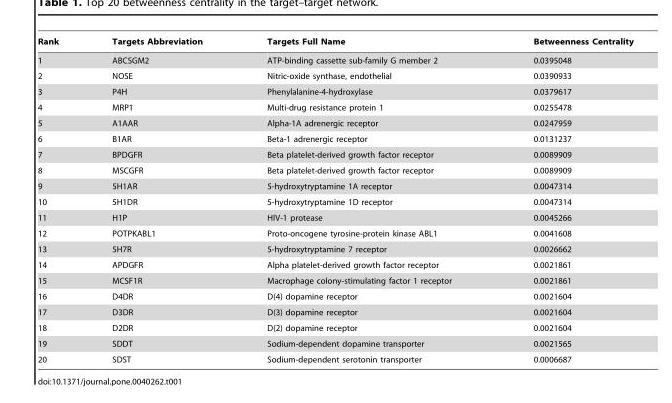table: (37, 36, 633, 363)
table column: (234, 36, 491, 363), (84, 36, 234, 363), (491, 36, 633, 363), (37, 36, 84, 363)
table column header: (37, 36, 633, 50)
table row: (37, 50, 633, 67), (37, 67, 633, 83), (37, 83, 633, 99), (37, 99, 633, 115), (37, 130, 633, 146), (37, 146, 633, 162), (37, 162, 633, 178), (37, 193, 633, 209), (37, 209, 633, 225), (37, 225, 633, 241), (37, 256, 633, 272), (37, 272, 633, 288), (37, 288, 633, 304), (37, 319, 633, 335), (37, 335, 633, 351), (37, 115, 633, 130), (37, 178, 633, 193), (37, 241, 633, 256), (37, 304, 633, 319), (37, 36, 633, 50), (37, 351, 633, 363)
